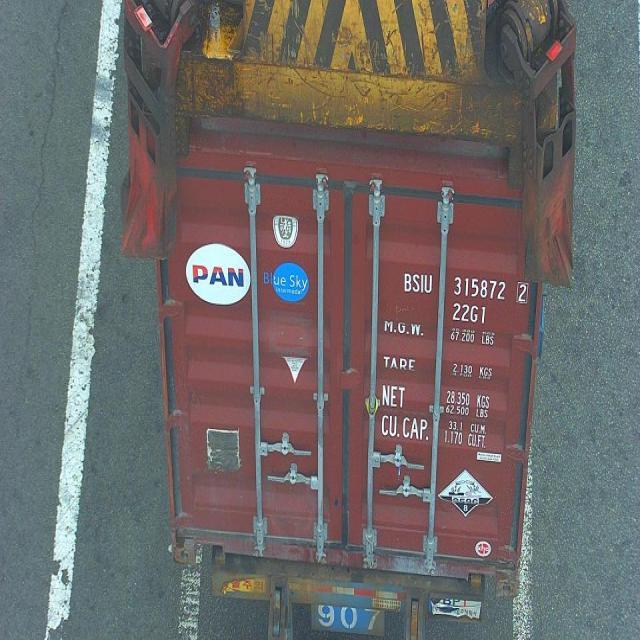ISO: (452, 304, 487, 322)
container_number: (403, 266, 531, 306)
